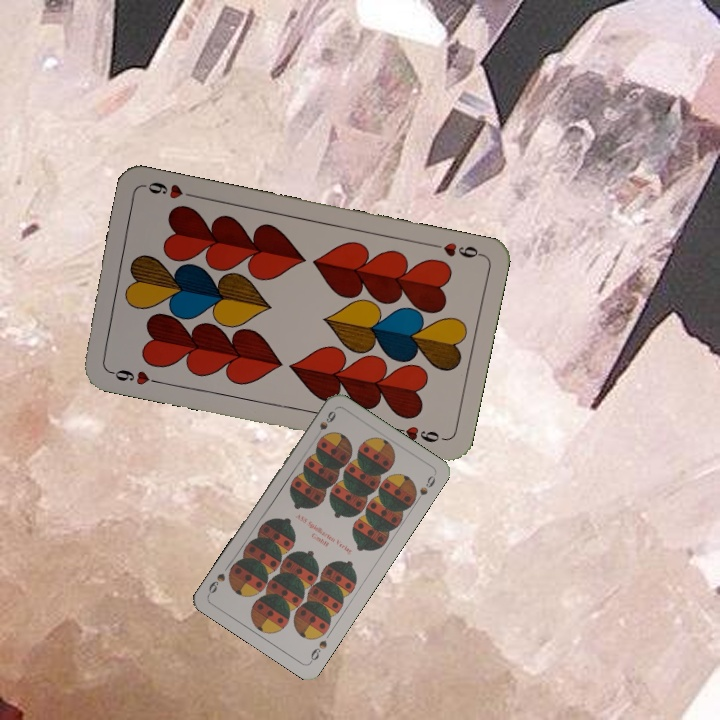H9: (426, 238, 485, 261), (104, 365, 162, 388)
S9: (310, 406, 339, 442), (306, 636, 330, 665)
